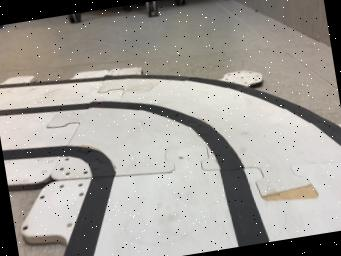street: (0, 73, 341, 256), (0, 73, 341, 256), (0, 73, 341, 256), (0, 73, 341, 256), (0, 73, 341, 256), (0, 73, 341, 256)
